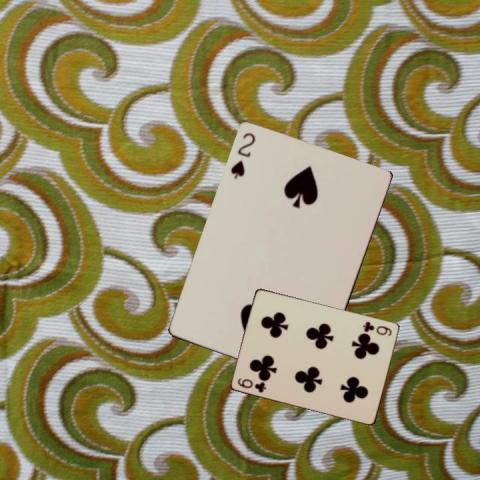2s: (228, 130, 258, 180)
6c: (360, 318, 393, 337), (235, 375, 268, 394)
